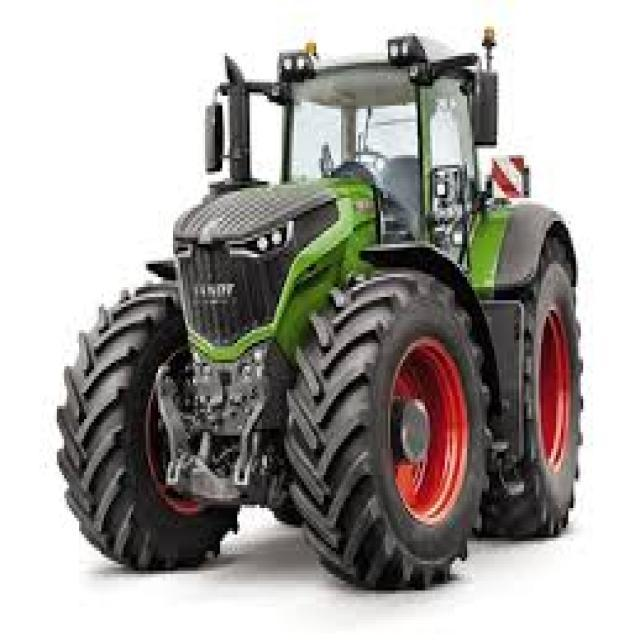Tratores - v5 YOLO V8L 2024-11-13: (58, 31, 585, 594)
